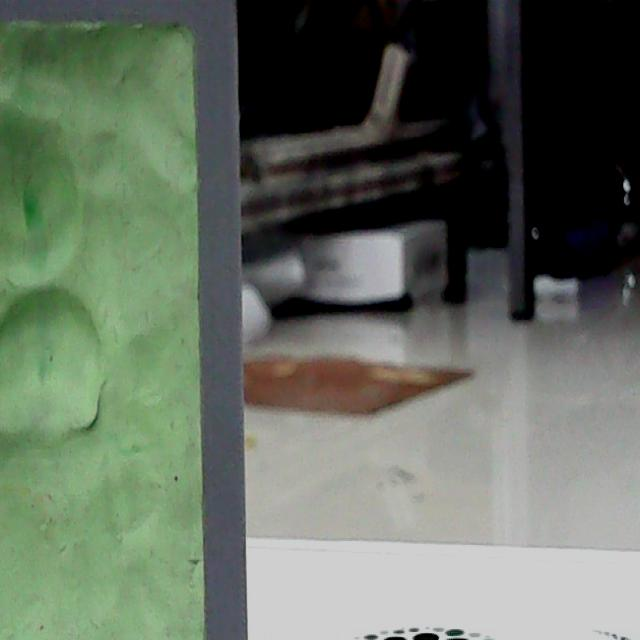block: (0, 0, 265, 640)
